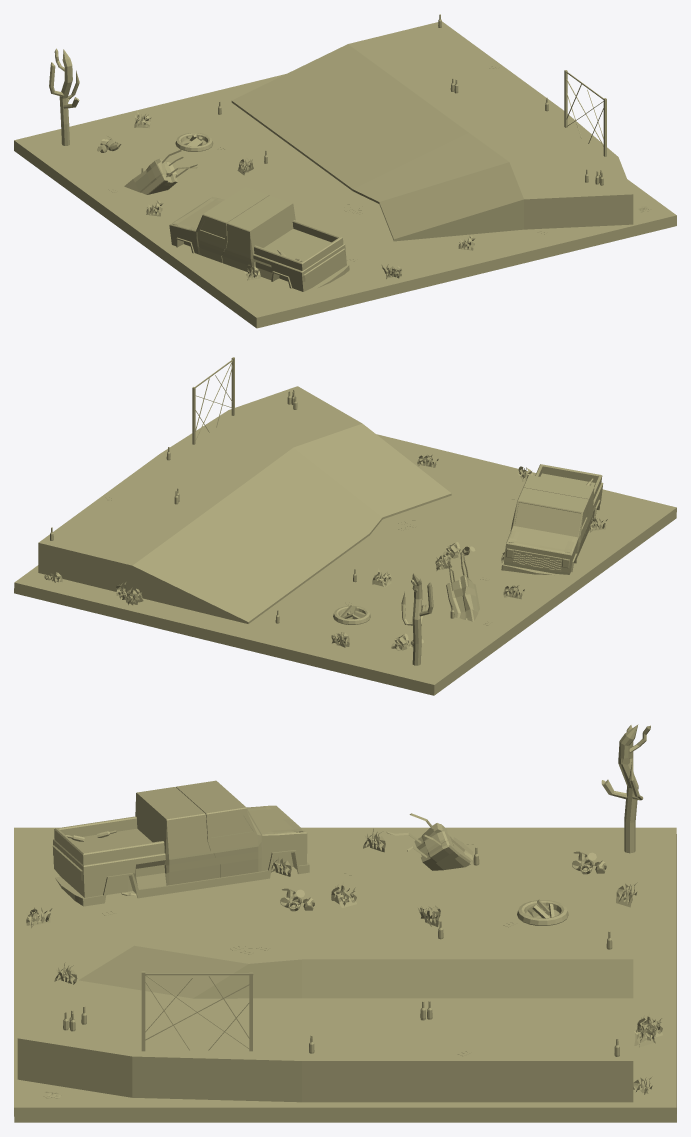
The model's file is slum_park.fbx.
3 renders of one model, top to bottom at view 1: azimuth 30°, elevation 25°; view 2: azimuth 150°, elevation 25°; view 3: azimuth 270°, elevation 25°, orthographic. The views are drawn at different scales.
Parts seen in each view (by area): view 1: slum_park; view 2: slum_park; view 3: slum_park.
Boxes of the visible parts, x1,y1,x2,y2 form: slum_park: [14, 14, 676, 328]; slum_park: [14, 357, 676, 695]; slum_park: [14, 724, 676, 1122].
Size of the model in its own units: 400 by 113 by 400.
